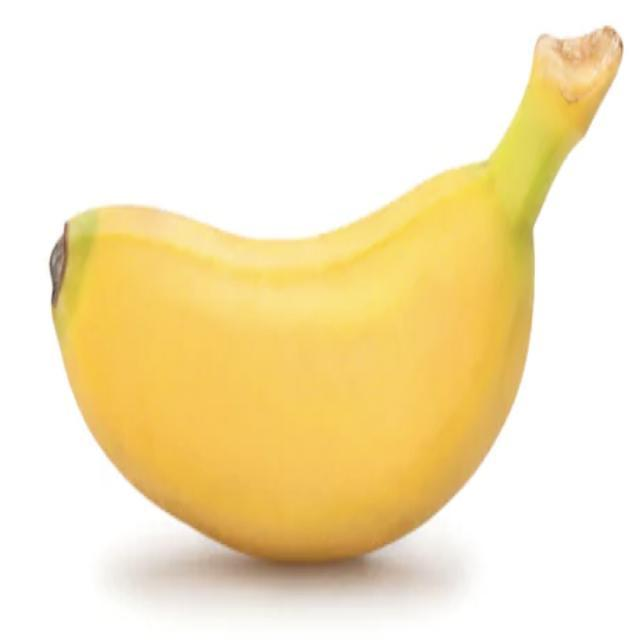Banana: (47, 24, 624, 564)
